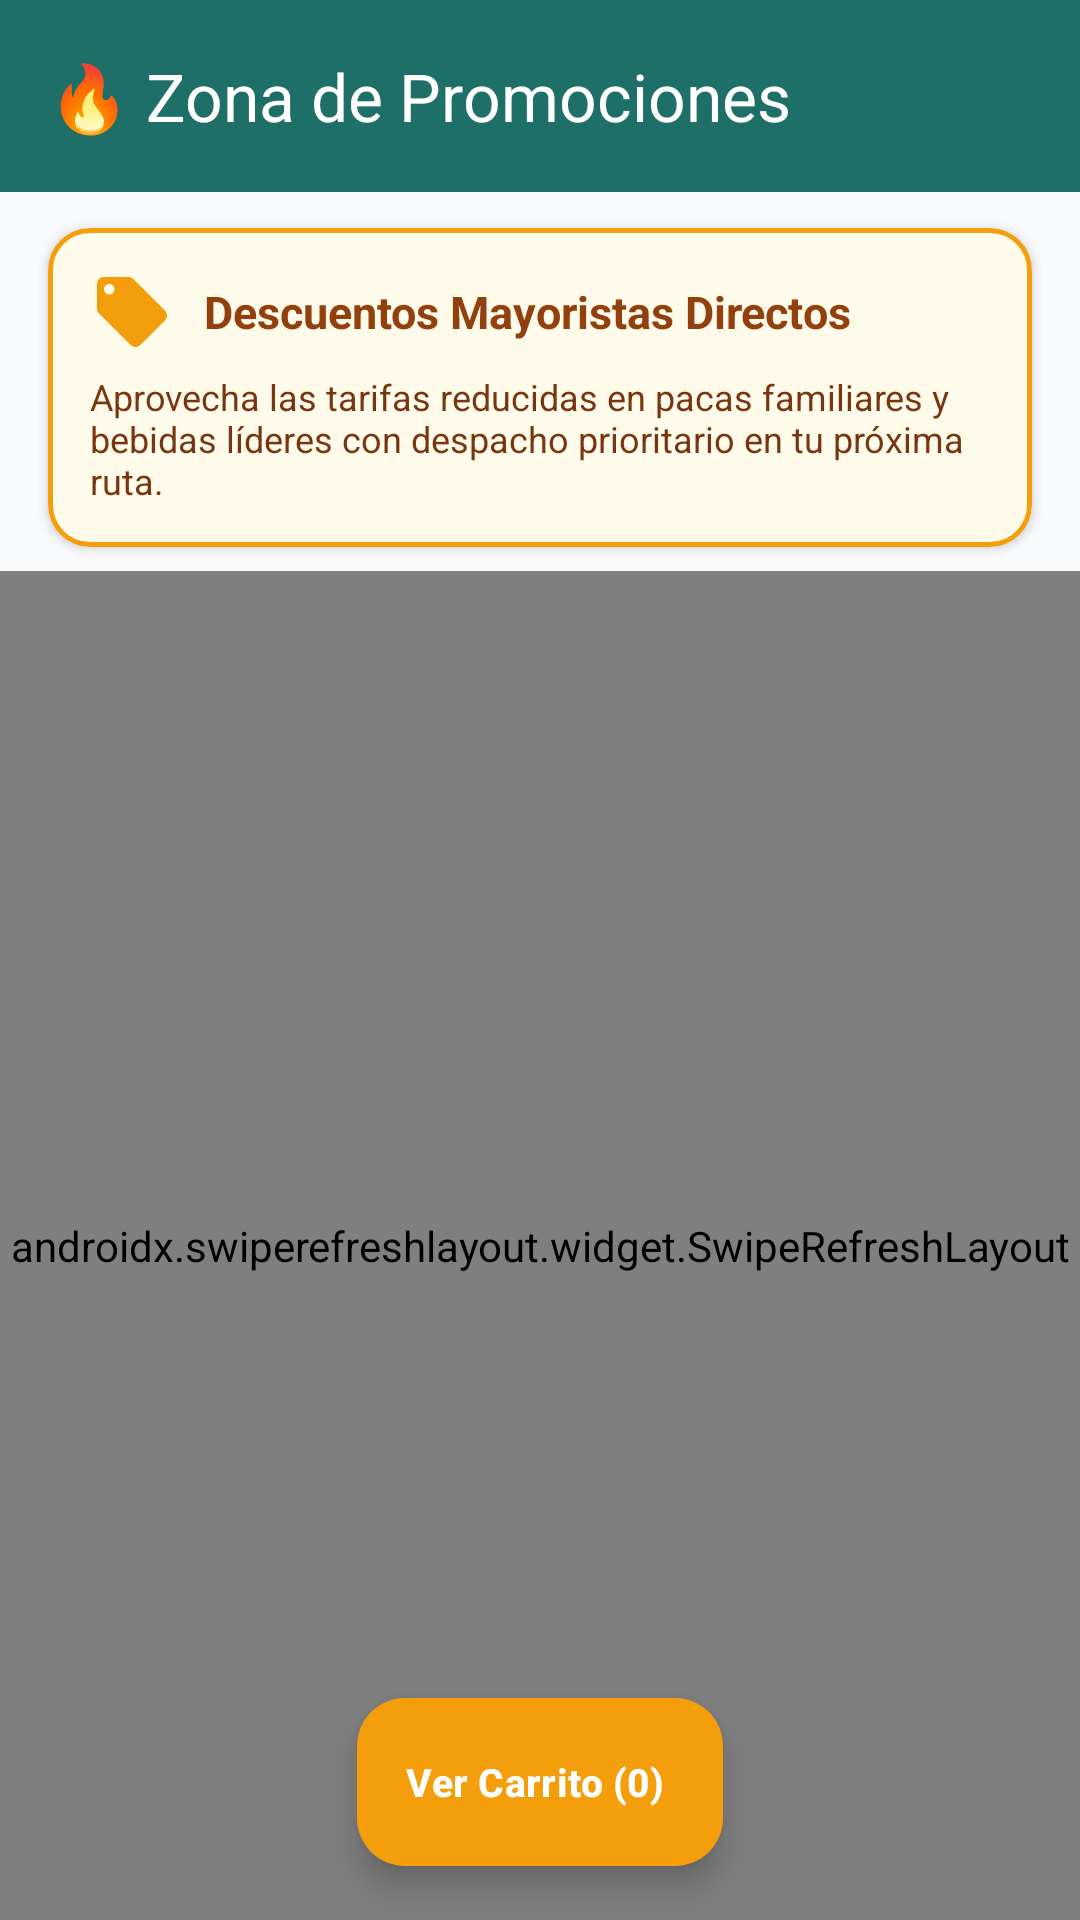

Screen size 1080w x 1920h. Icon name, then its center in pixels as point (x, y):
offer tag: point (132, 312)
